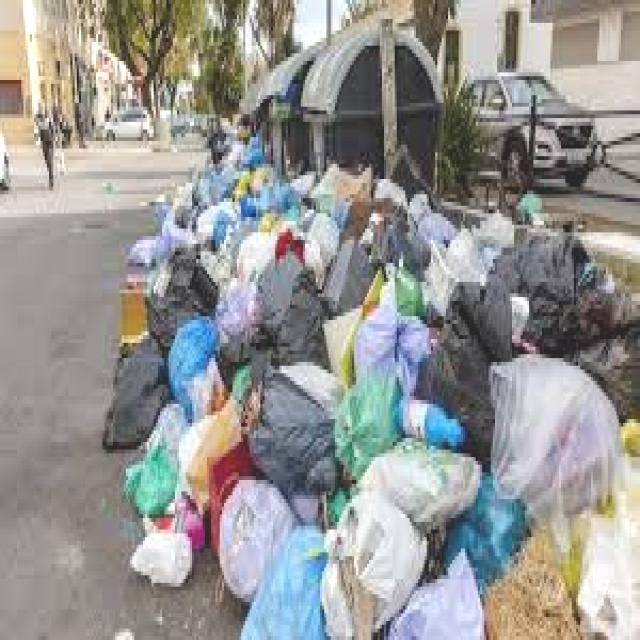garbage: (98, 147, 640, 640)
